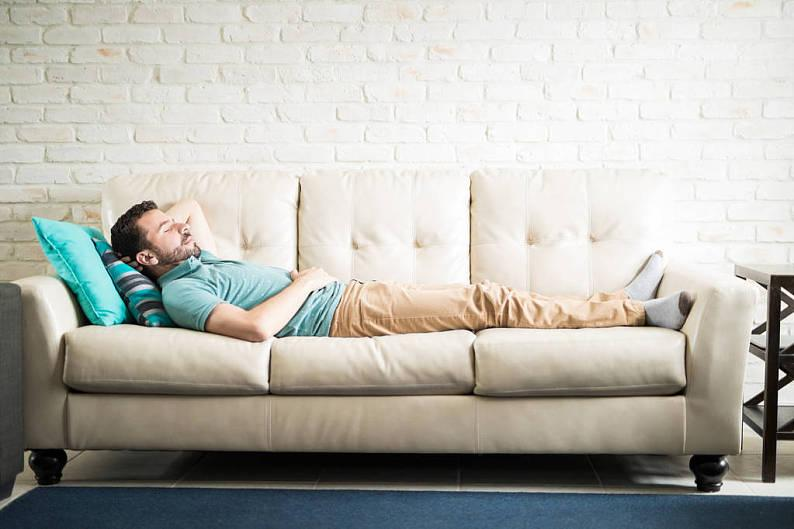down: (110, 184, 704, 346)
